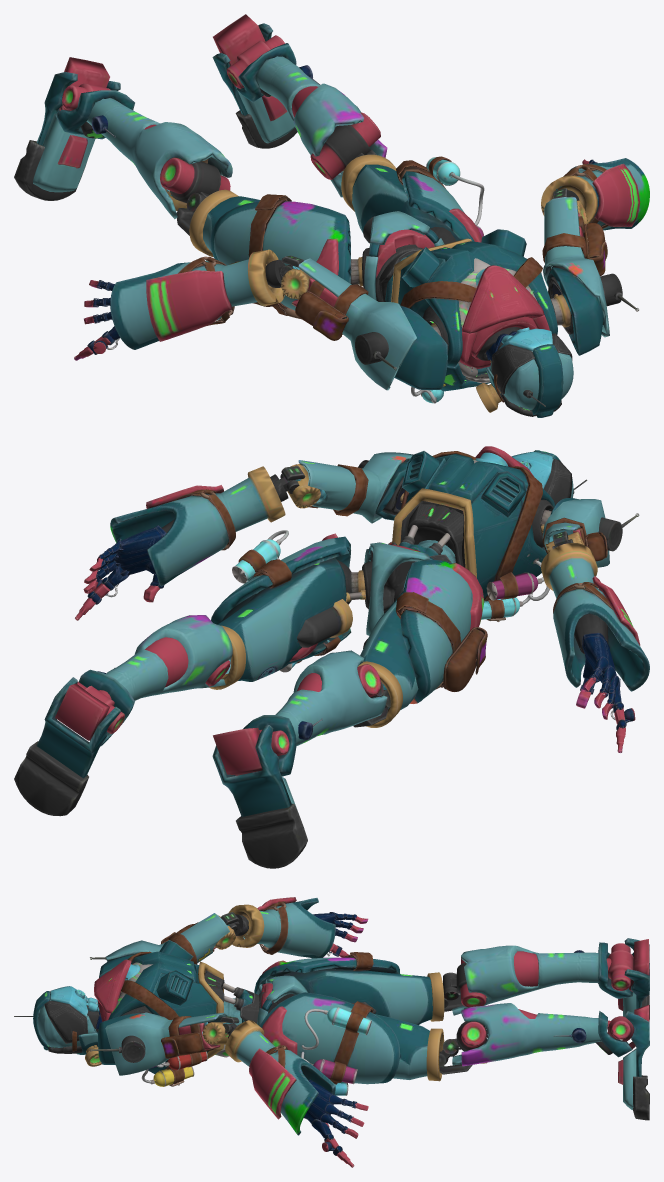
Rendered from mech2a.glb.
3 renders of one model, top to bottom at view 1: azimuth 30°, elevation 25°; view 2: azimuth 150°, elevation 25°; view 3: azimuth 270°, elevation 25°, orthographic. The views are drawn at different scales.
Parts seen in each view (by area): view 1: L_Hand.001; view 2: L_Hand.001; view 3: L_Hand.001.
Boxes of the visible parts, x1=… form: L_Hand.001: x1=14, y1=14, x2=649, y2=417; L_Hand.001: x1=14, y1=446, x2=649, y2=868; L_Hand.001: x1=14, y1=897, x2=649, y2=1167.
Size of the model in its own units: 4.17 by 1.13 by 5.4.
1 material, 1 textured.
